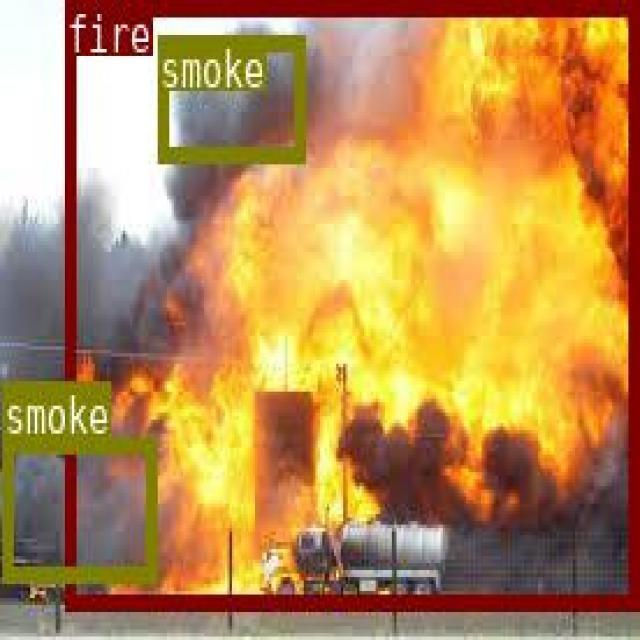fire: (63, 0, 636, 605)
smoke: (1, 436, 155, 581), (157, 32, 303, 160)
